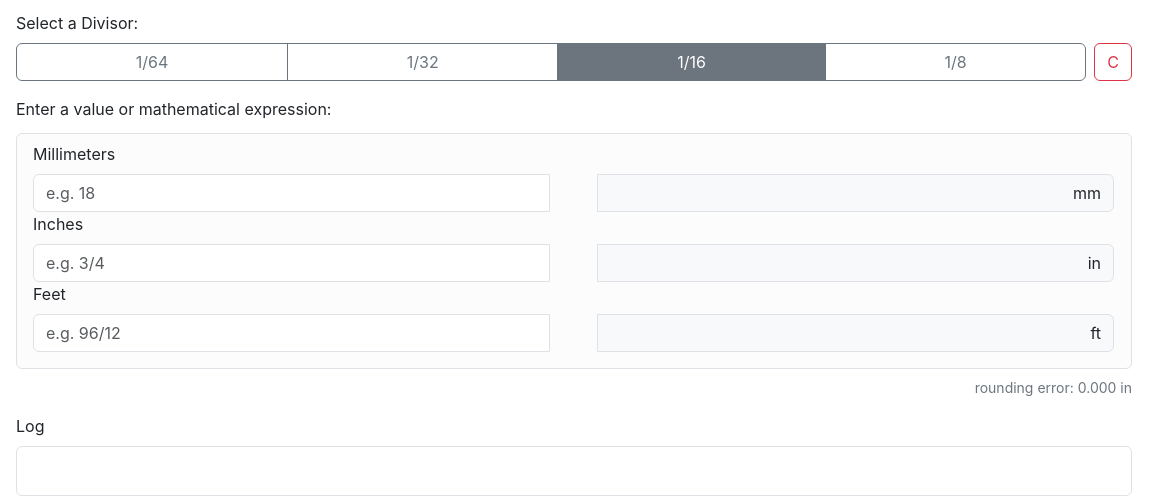
Test case: [Req 3] 16.25 in shows as "1 ft 4-1/4 in" with 1/8 divisor
Click the button "1/8" at [955, 62], box top-left (825, 43), bottom-right (1086, 81)
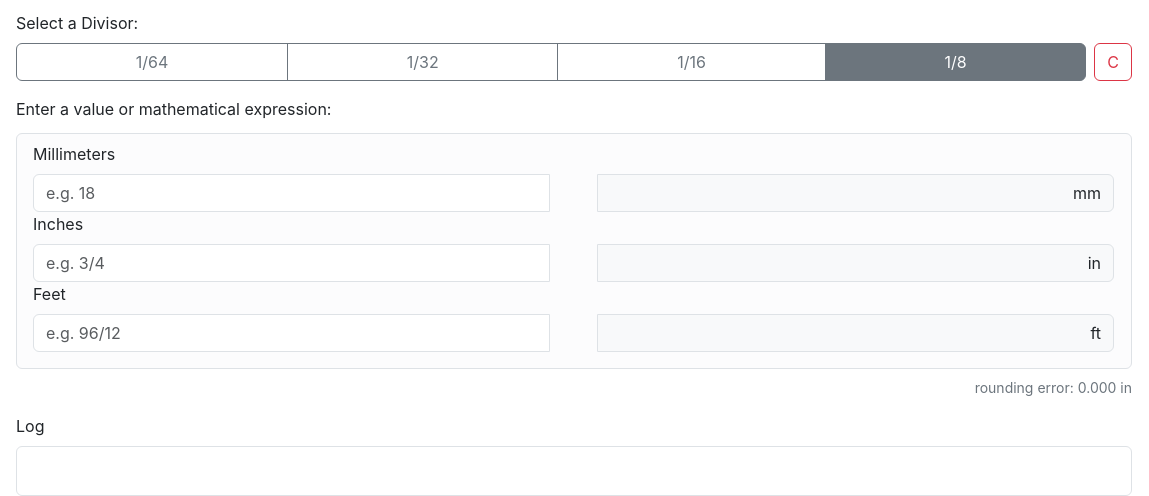
Type "16.25" into the field labelled "Inches" at [292, 263], box top-left (33, 244), bottom-right (550, 282)
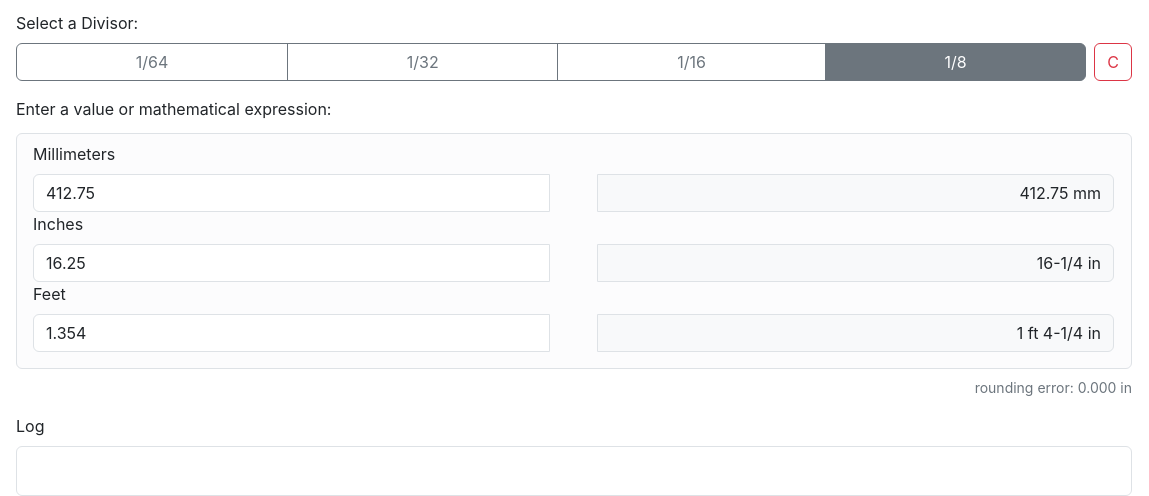
Result: the text "1 ft 4-1/4 in" is shown at top-left (597, 314), bottom-right (1114, 352)
